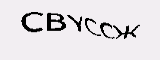Е: (90, 14, 108, 41)
С: (108, 15, 126, 39)
Х: (60, 9, 79, 36), (76, 12, 91, 39)
Я: (40, 5, 63, 33)
